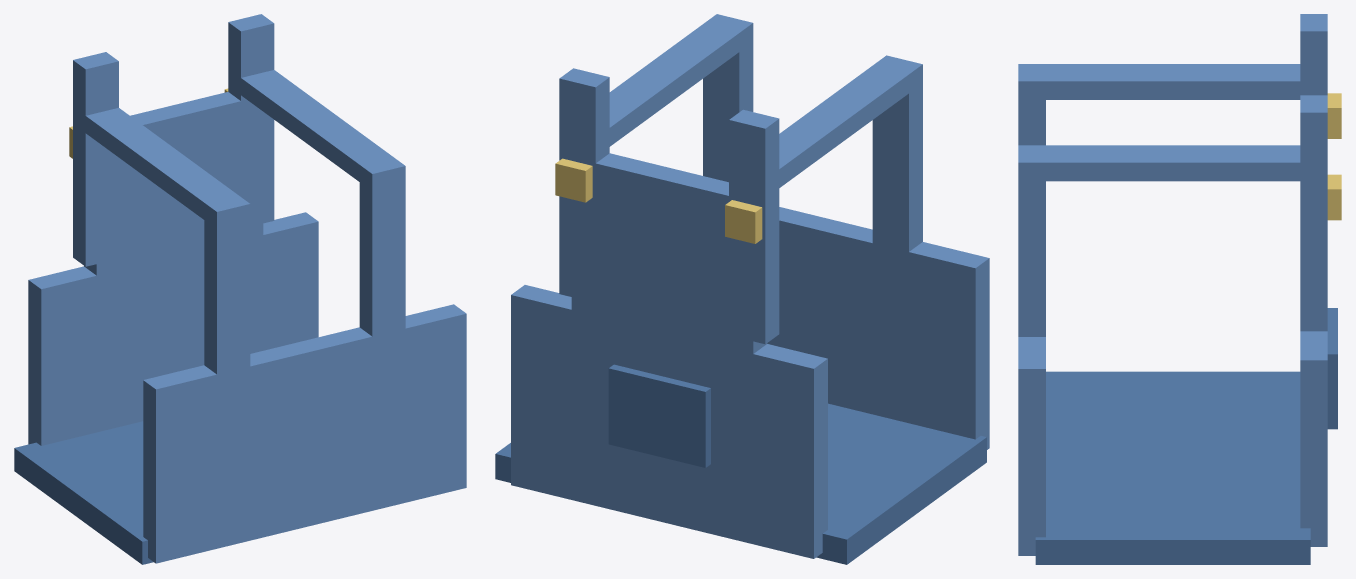
File: fazendeiro_tronco.glb
3 renders of one model, left to right at view 1: azimuth 30°, elevation 25°; view 2: azimuth 150°, elevation 25°; view 3: azimuth 270°, elevation 25°, orthographic. The views are drawn at different scales.
Visible parts, largest first — view 1: fazendeiro_tronco; view 2: fazendeiro_tronco; view 3: fazendeiro_tronco.
Part boxes in pixels (x1,y1,x2,y2): fazendeiro_tronco: (14, 14, 466, 564); fazendeiro_tronco: (495, 14, 989, 564); fazendeiro_tronco: (1018, 14, 1341, 564).
Bounding box in the file's own units: 0.58 × 0.67 × 0.47.
